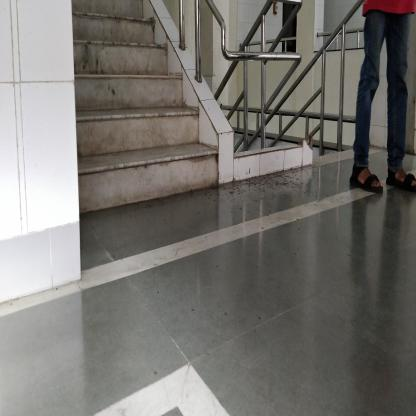stairs: (84, 35, 162, 222)
